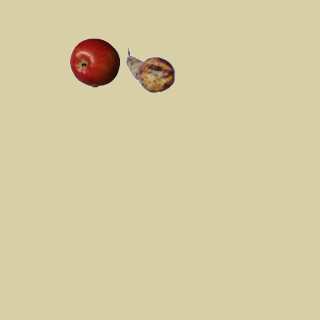Apple Braeburn: (69, 37, 119, 87)
Pear Abate: (125, 45, 175, 95)
